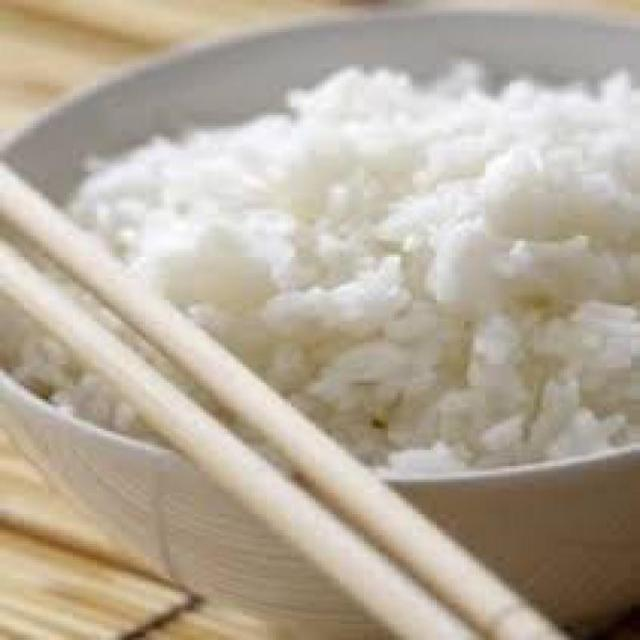nasi_putih: (24, 64, 639, 470)
